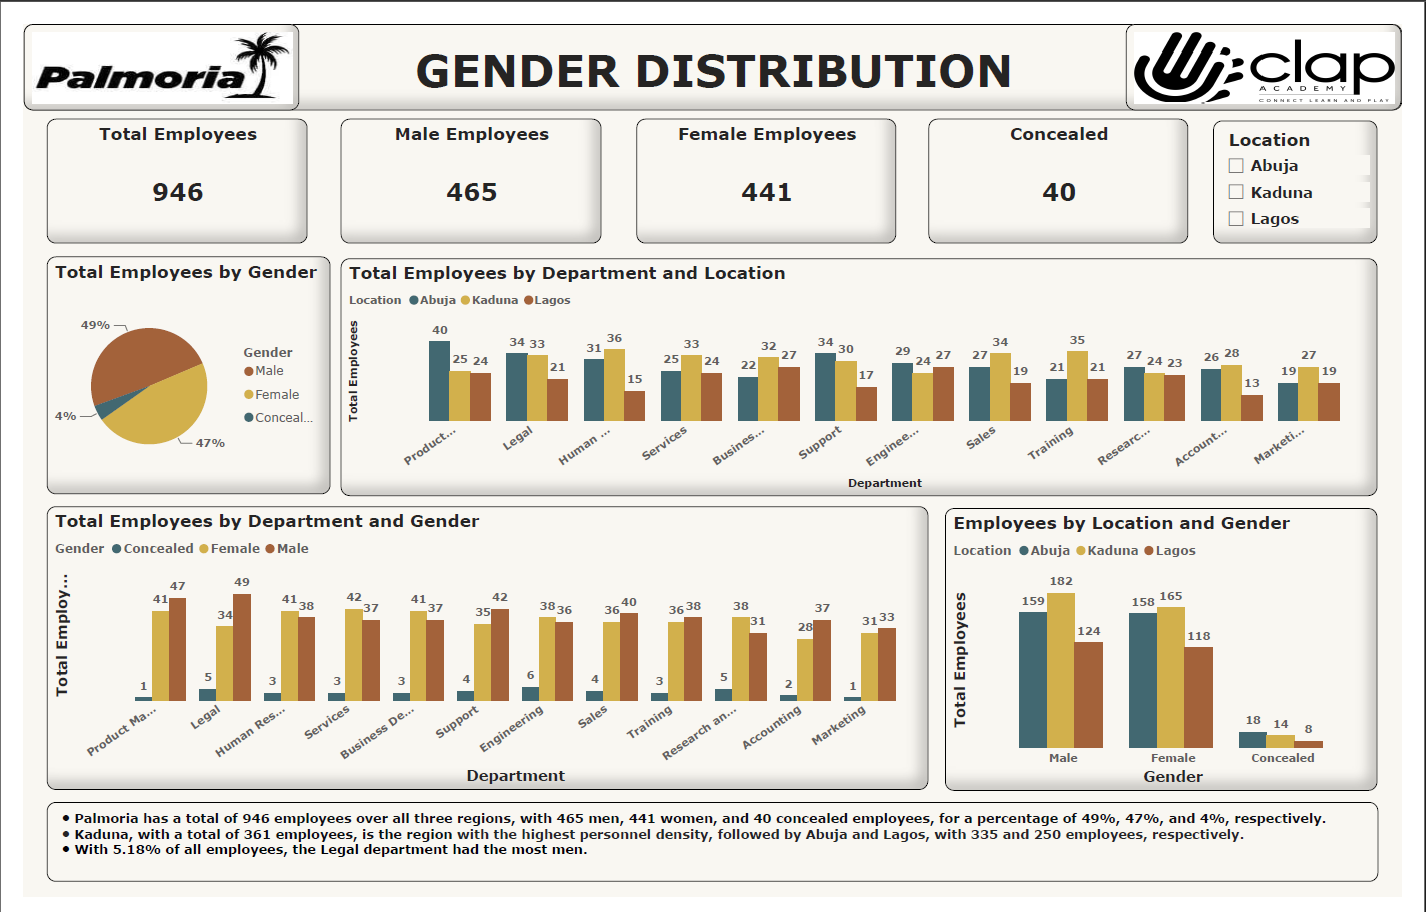

The page's visual inventory and layout, read from the dashboard file:
{"tool":"powerbi","page":{"name":"Gender Distribution","canvas":[1500,950],"ordinal":2},"visuals":[{"type":"textbox","box":[0,0,1500.9,94.3],"z":0,"group":"g1"},{"type":"card","title":"Total Employees","fields":{"Values":["Palmoria Data.Total Employees"]},"box":[25.5,103.4,283.2,135.3],"z":0},{"type":"image","box":[1200.2,0,300.1,94.1],"z":1000,"group":"g1"},{"type":"card","title":"Concealed","fields":{"Values":["Palmoria Data.Concealed"]},"box":[985,103.4,283.2,135.3],"z":1000},{"type":"image","box":[0,0,300.1,94],"z":2000,"group":"g1"},{"type":"card","title":"Female Employees","fields":{"Values":["Palmoria Data.Female"]},"box":[666.8,103.4,283.2,135.3],"z":2000},{"type":"card","title":"Male Employees","fields":{"Values":["Palmoria Data.Male"]},"box":[345.3,103.4,283.2,135.3],"z":3000},{"type":"slicer","fields":{"Values":["Palmoria Data.Location"]},"box":[1295.3,105,178.2,133.7],"z":4000},{"type":"pieChart","title":"Total  Employees by Gender","fields":{"Y":["Palmoria Data.Total Employees"],"Category":["Palmoria Data.Gender"]},"box":[25.5,253,308.7,259.4],"z":5000},{"type":"clusteredColumnChart","title":"Employees by Location and Gender","fields":{"Y":["Palmoria Data.Total Employees"],"Category":["Palmoria Data.Gender"],"Series":["Palmoria Data.Location"]},"box":[1002.5,526.7,471,308.7],"z":6000},{"type":"clusteredColumnChart","fields":{"Category":["Palmoria Data.Department"],"Y":["Palmoria Data.Total Employees"],"Series":["Palmoria Data.Gender"]},"box":[25.5,525.1,959.5,308.7],"z":7000},{"type":"clusteredColumnChart","fields":{"Category":["Palmoria Data.Department"],"Y":["Palmoria Data.Total Employees"],"Series":["Palmoria Data.Location"]},"box":[345.3,254.6,1128.2,259.4],"z":8000},{"type":"textbox","box":[25,846.9,1450,87.5],"z":9000},{"type":"group","id":"g1","title":"Group 1","box":[0,0,1500.9,94.3],"z":10000}]}

Visuals, with their boxes in screenshot pixels (x1, y1, x2, y2), scaled from the page's 1500x950 canvas onto the 1426x912 screenshot:
textbox: bbox=(0, 0, 1425, 91)
"Total Employees" card: bbox=(24, 99, 293, 229)
image: bbox=(1141, 0, 1425, 90)
"Concealed" card: bbox=(936, 99, 1206, 229)
image: bbox=(0, 0, 285, 90)
"Female Employees" card: bbox=(634, 99, 903, 229)
"Male Employees" card: bbox=(328, 99, 597, 229)
slicer - Palmoria Data.Location: bbox=(1231, 101, 1401, 229)
"Total  Employees by Gender" pieChart: bbox=(24, 243, 318, 492)
"Employees by Location and Gender" clusteredColumnChart: bbox=(953, 506, 1401, 802)
clusteredColumnChart - Palmoria Data.Department x Palmoria Data.Total Employees: bbox=(24, 504, 936, 800)
clusteredColumnChart - Palmoria Data.Department x Palmoria Data.Total Employees: bbox=(328, 244, 1401, 493)
textbox: bbox=(24, 813, 1402, 897)
"Group 1" group: bbox=(0, 0, 1425, 91)
